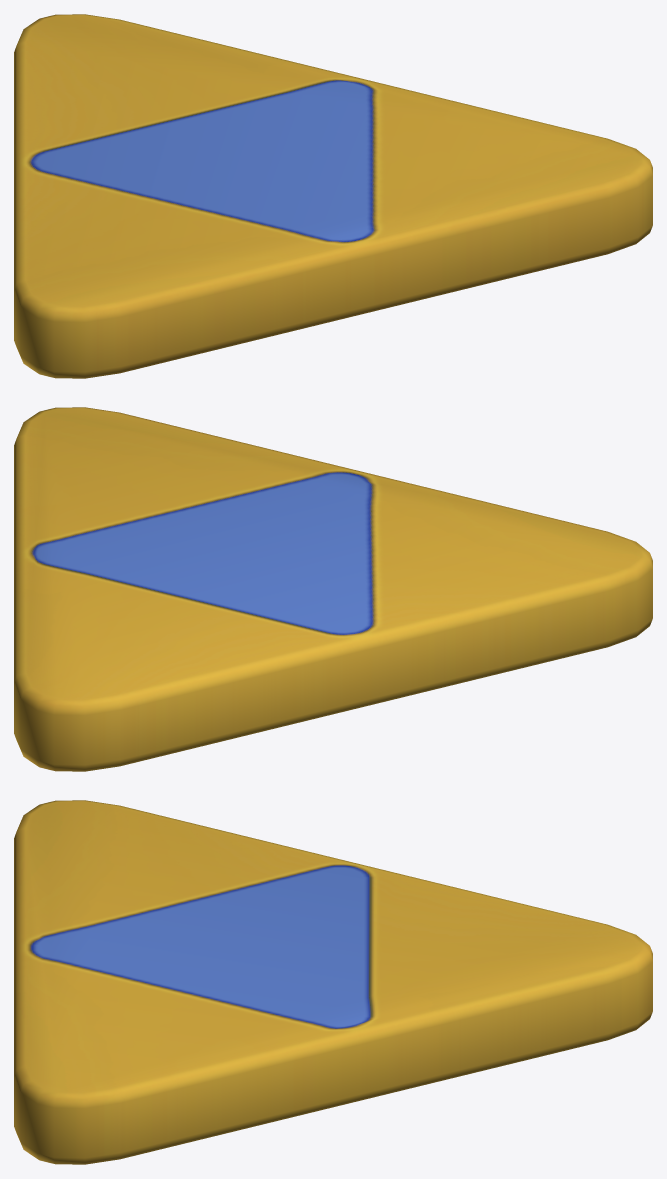
File: SM_ParkourBoard_Triangle.fbx
3 renders of one model, top to bottom at view 1: azimuth 30°, elevation 25°; view 2: azimuth 150°, elevation 25°; view 3: azimuth 270°, elevation 25°, orthographic.
Visible parts, largest first — view 1: SM_ParkourBoard_Triangle; view 2: SM_ParkourBoard_Triangle; view 3: SM_ParkourBoard_Triangle.
Boxes of the visible parts, <box> form: SM_ParkourBoard_Triangle: <box>14,14,652,378</box>; SM_ParkourBoard_Triangle: <box>14,407,652,771</box>; SM_ParkourBoard_Triangle: <box>14,800,652,1164</box>.
Bounding box in the file's own units: 914 × 100 × 818.
